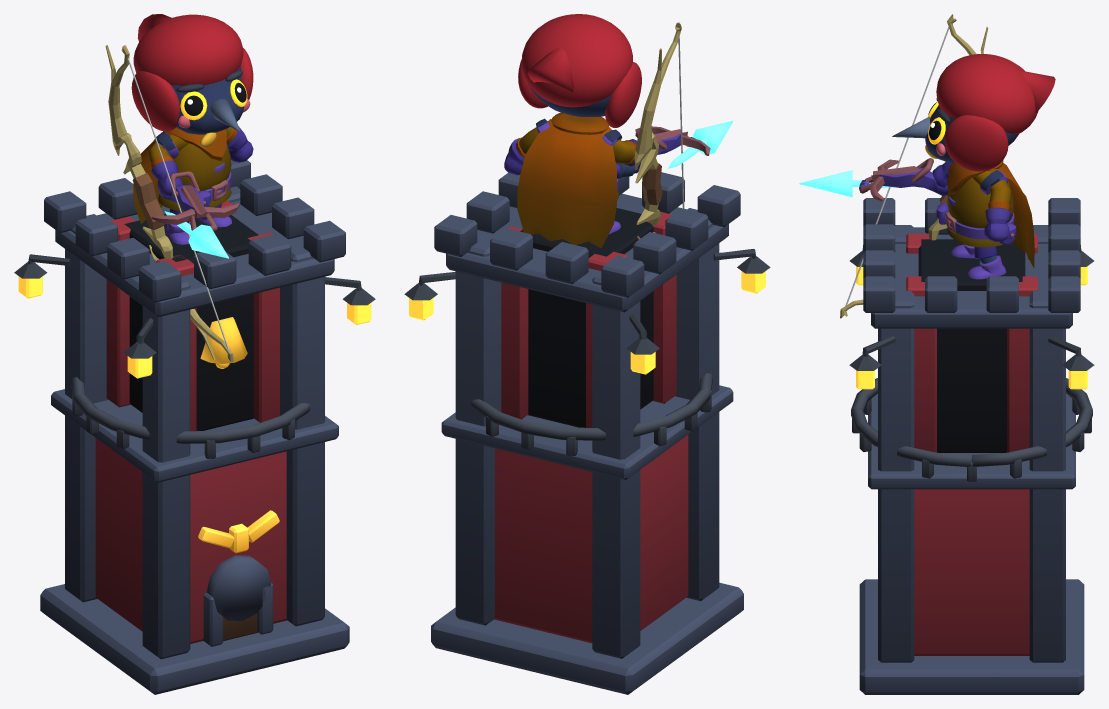
Rendered from tower_falcon_skyhunter.glb.
3 renders of one model, left to right at view 1: azimuth 30°, elevation 25°; view 2: azimuth 150°, elevation 25°; view 3: azimuth 270°, elevation 25°, orthographic. The views are drawn at different scales.
Parts seen in each view (by area): view 1: CustomTowerBase_falcon_skyhunter, NativeHat_RvHoodTop, Bow_Golden, Rogue_Body, NativeHat_RvHoodFlap_-1, 1H_Crossbow, RvHead, Rogue_ArmRight, RavenLightningTip, Rogue_ArmLeft, Rogue_Cape; view 2: CustomTowerBase_falcon_skyhunter, Rogue_Cape, NativeHat_RvHoodTop, Bow_Golden, NativeHat_RvHoodFlap_-1, NativeHat_RvHoodPeak, 1H_Crossbow, Rogue_Body, Rogue_ArmLeft, Rogue_ArmRight, RvHead, RavenLightningTip; view 3: CustomTowerBase_falcon_skyhunter, NativeHat_RvHoodTop, Rogue_Body, NativeHat_RvHoodFlap_1, 1H_Crossbow, Rogue_ArmLeft, Rogue_Cape, Bow_Golden, Rogue_LegLeft, RavenLightningTip, NativeHat_RvHoodPeak, RvHead.
Boxes of the visible parts, left/top/right/bottom form: CustomTowerBase_falcon_skyhunter: left=14, top=160, right=375, bottom=694; NativeHat_RvHoodTop: left=133, top=14, right=243, bottom=85; Bow_Golden: left=105, top=45, right=234, bottom=362; Rogue_Body: left=158, top=127, right=231, bottom=211; NativeHat_RvHoodFlap_-1: left=131, top=71, right=179, bottom=131; 1H_Crossbow: left=151, top=171, right=239, bottom=231; RvHead: left=171, top=66, right=244, bottom=134; Rogue_ArmRight: left=148, top=132, right=188, bottom=197; RavenLightningTip: left=188, top=224, right=228, bottom=258; Rogue_ArmLeft: left=225, top=126, right=253, bottom=162; Rogue_Cape: left=133, top=131, right=171, bottom=224; CustomTowerBase_falcon_skyhunter: left=404, top=172, right=770, bottom=694; Rogue_Cape: left=517, top=119, right=616, bottom=248; NativeHat_RvHoodTop: left=521, top=14, right=632, bottom=107; Bow_Golden: left=634, top=22, right=684, bottom=239; NativeHat_RvHoodFlap_-1: left=605, top=62, right=641, bottom=127; NativeHat_RvHoodPeak: left=527, top=48, right=573, bottom=92; 1H_Crossbow: left=616, top=126, right=710, bottom=178; Rogue_Body: left=551, top=112, right=618, bottom=200; Rogue_ArmLeft: left=504, top=118, right=549, bottom=175; Rogue_ArmRight: left=602, top=127, right=640, bottom=170; RvHead: left=528, top=84, right=611, bottom=116; RavenLightningTip: left=692, top=121, right=733, bottom=155; CustomTowerBase_falcon_skyhunter: left=849, top=198, right=1094, bottom=694; NativeHat_RvHoodTop: left=936, top=54, right=1038, bottom=134; Rogue_Body: left=935, top=160, right=1016, bottom=247; NativeHat_RvHoodFlap_1: left=944, top=115, right=1008, bottom=171; 1H_Crossbow: left=859, top=158, right=948, bottom=201; Rogue_ArmLeft: left=973, top=170, right=1011, bottom=241; Rogue_Cape: left=991, top=163, right=1034, bottom=267; Bow_Golden: left=840, top=14, right=988, bottom=318; Rogue_LegLeft: left=967, top=246, right=1006, bottom=279; RavenLightningTip: left=799, top=170, right=852, bottom=197; NativeHat_RvHoodPeak: left=1021, top=71, right=1055, bottom=112; RvHead: left=925, top=105, right=1018, bottom=162.
Bounding box in the file's own units: 0.9784 × 2.35 × 1.05.
Materials: 15 (3 with a texture image).
